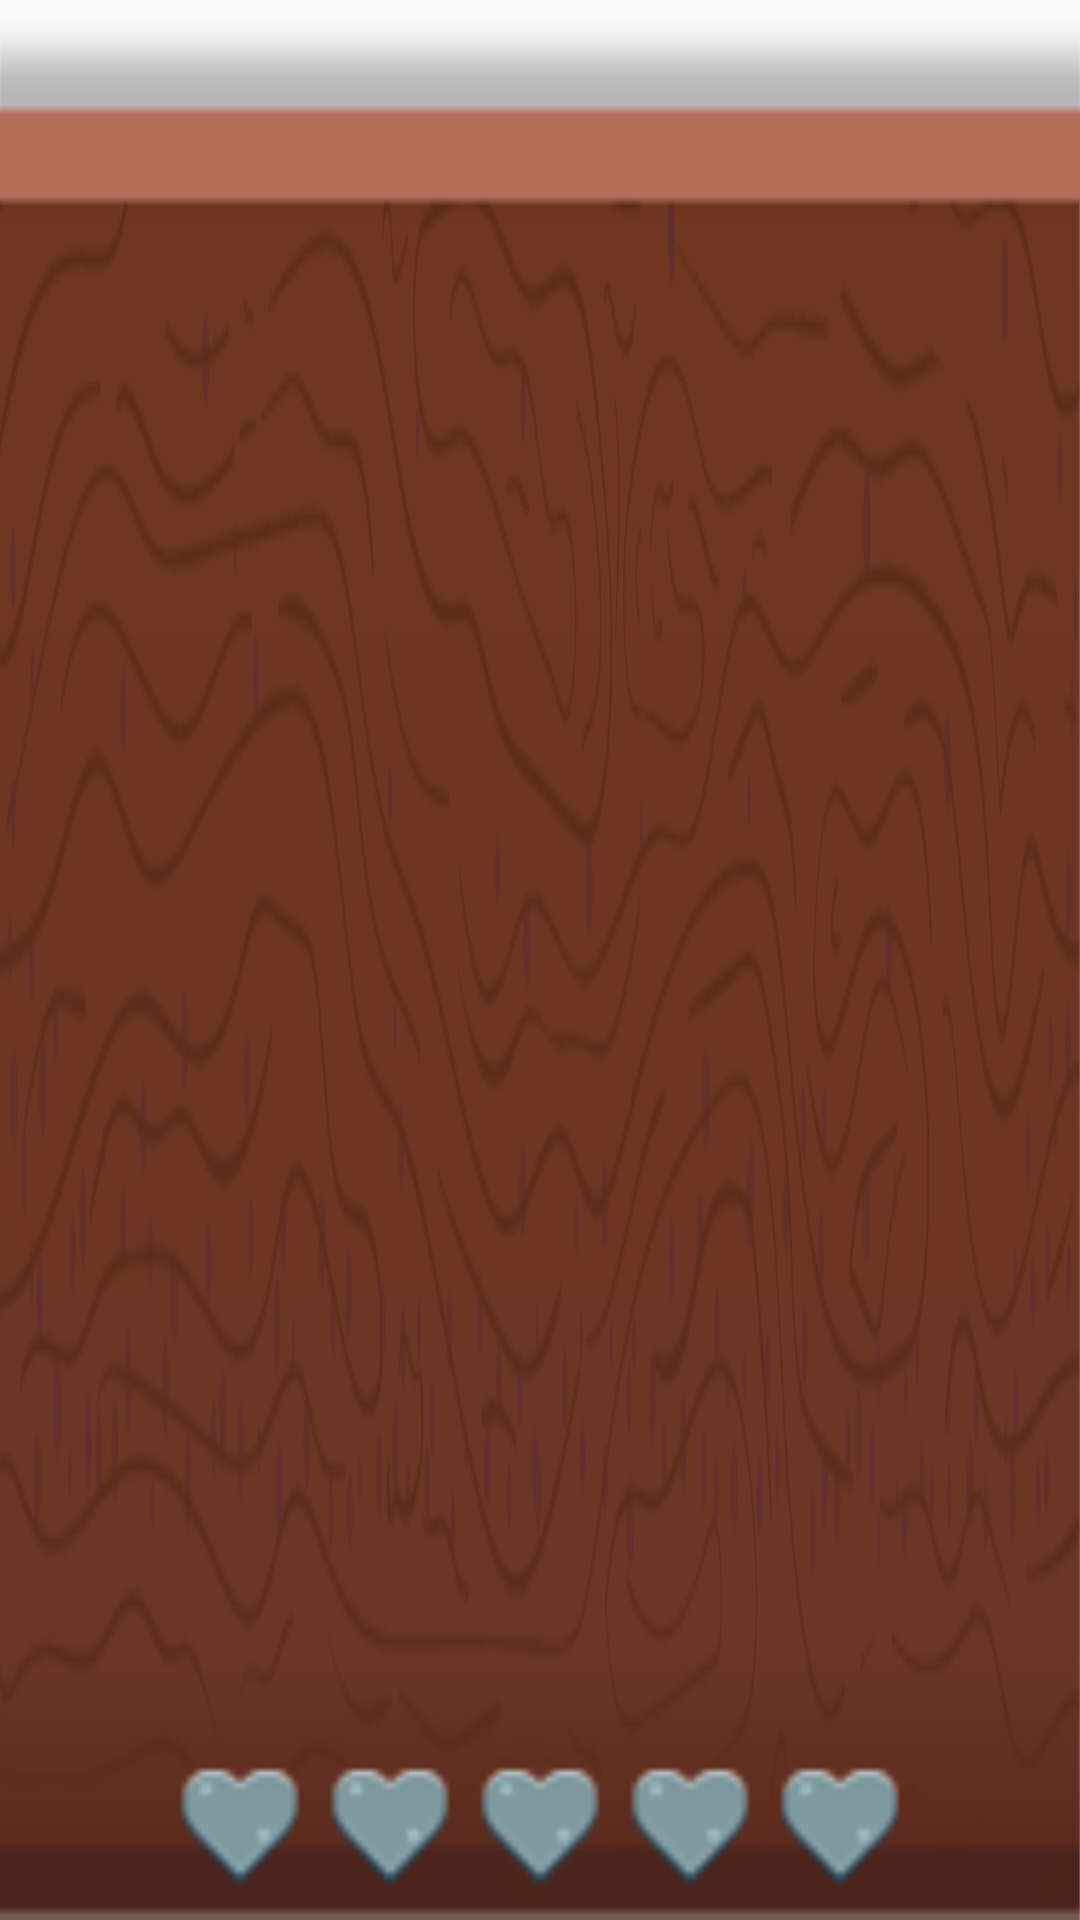

Where icons sit on this 1080*1920 app screen, as (x1, y1, x2, y2):
heart: (180, 1767, 300, 1883), (330, 1767, 450, 1883), (480, 1767, 600, 1883), (630, 1767, 750, 1883), (780, 1767, 900, 1883)
